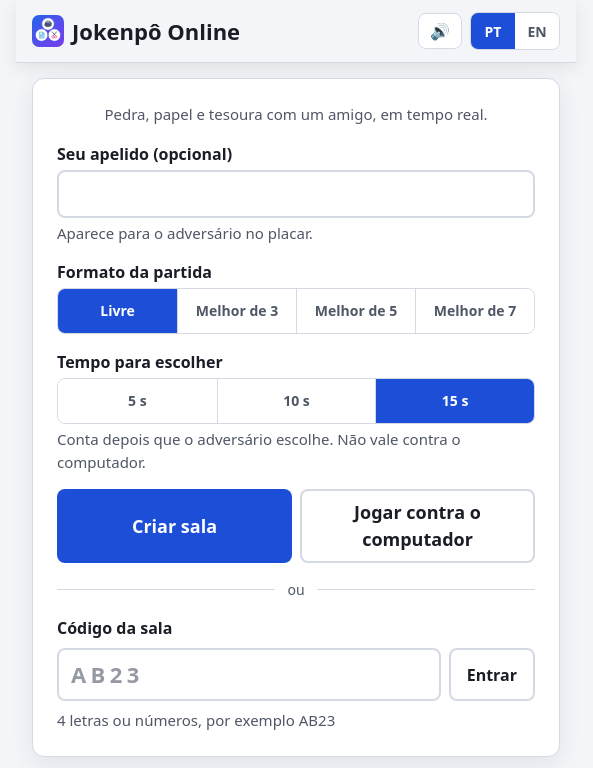
Scenario: tela inicial › trocar para inglês muda os textos e o lang da página, e a escolha fica salva
Click the button with aria-label "English".
click(537, 31)  # box [515,13,559,49]
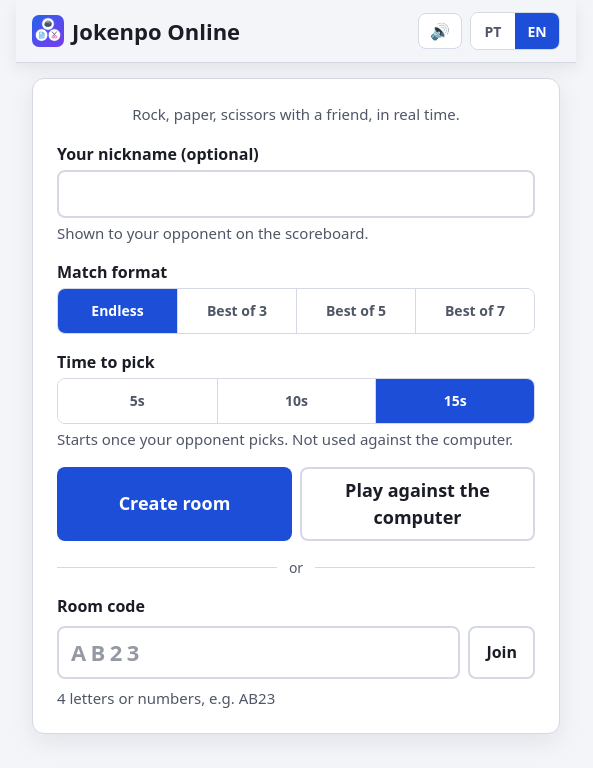
Result: the button "Create room" is shown at [57,466,292,540]
